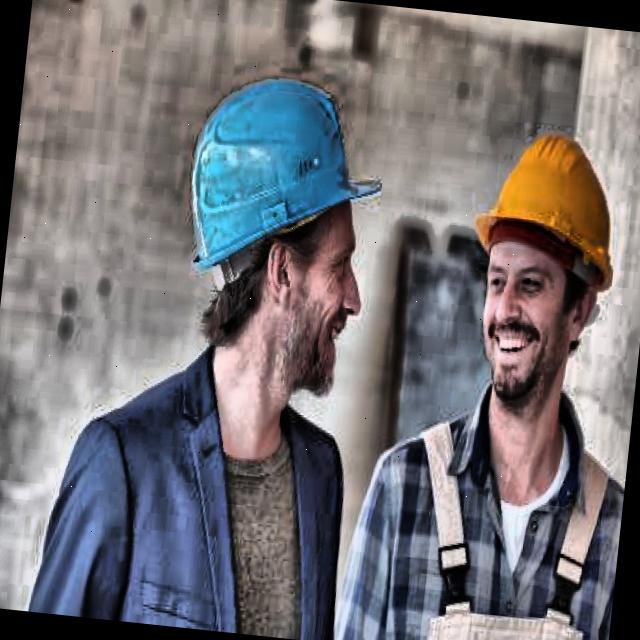helmet: (152, 28, 410, 446), (434, 80, 635, 462)
